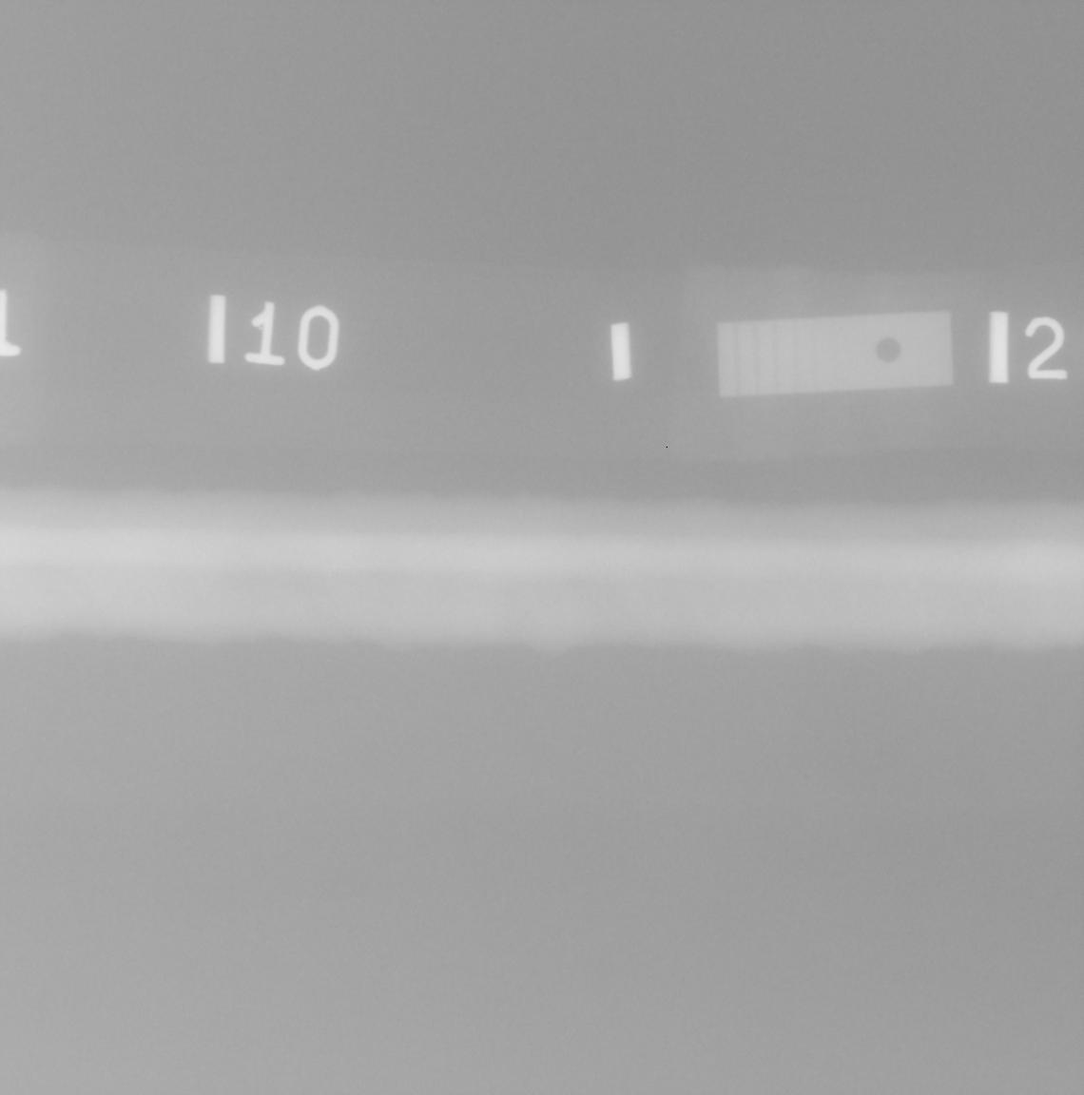Reference Standard 1: (719, 311, 953, 396)
